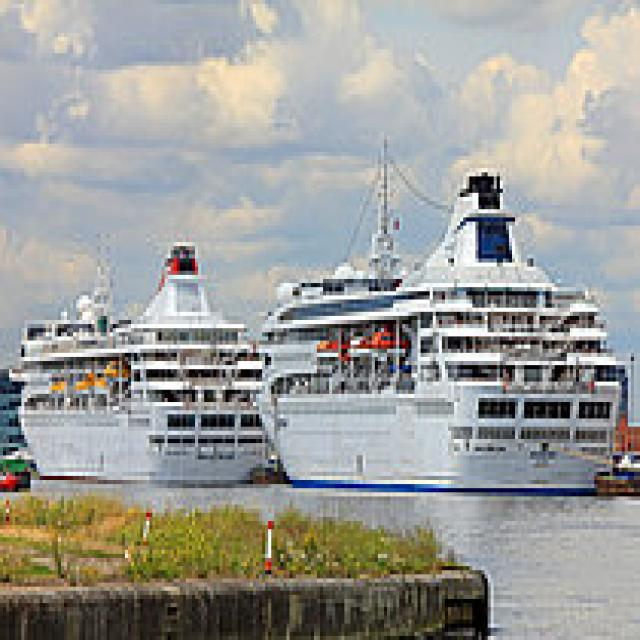Ship: (239, 157, 635, 510), (14, 231, 285, 494)
